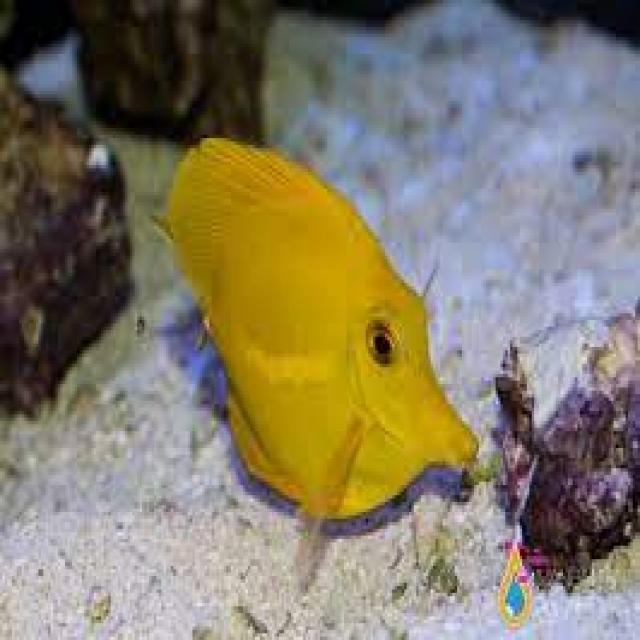TangFish: (139, 129, 480, 531)
